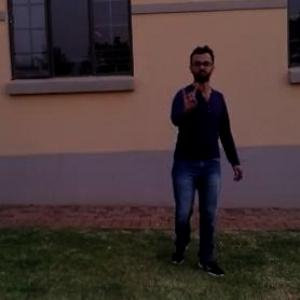takeoff-hand: (170, 79, 202, 112)
